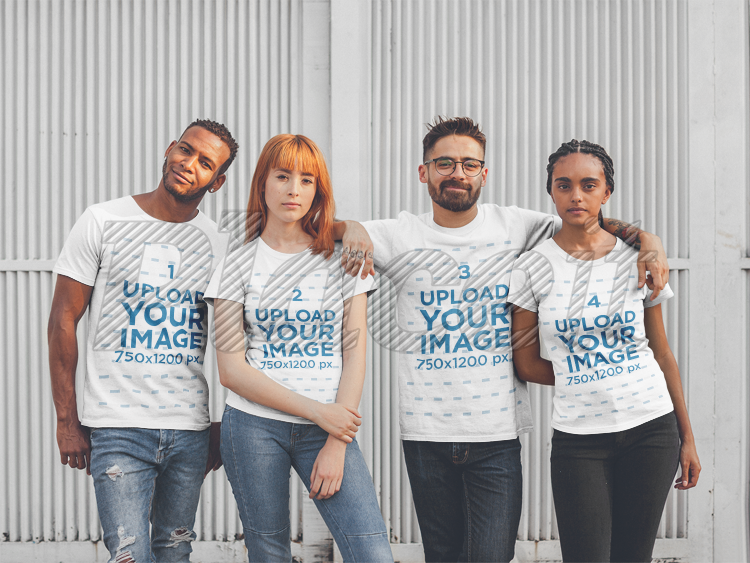bare: (424, 167, 487, 214), (263, 179, 320, 223), (160, 155, 211, 200), (551, 190, 607, 228)
